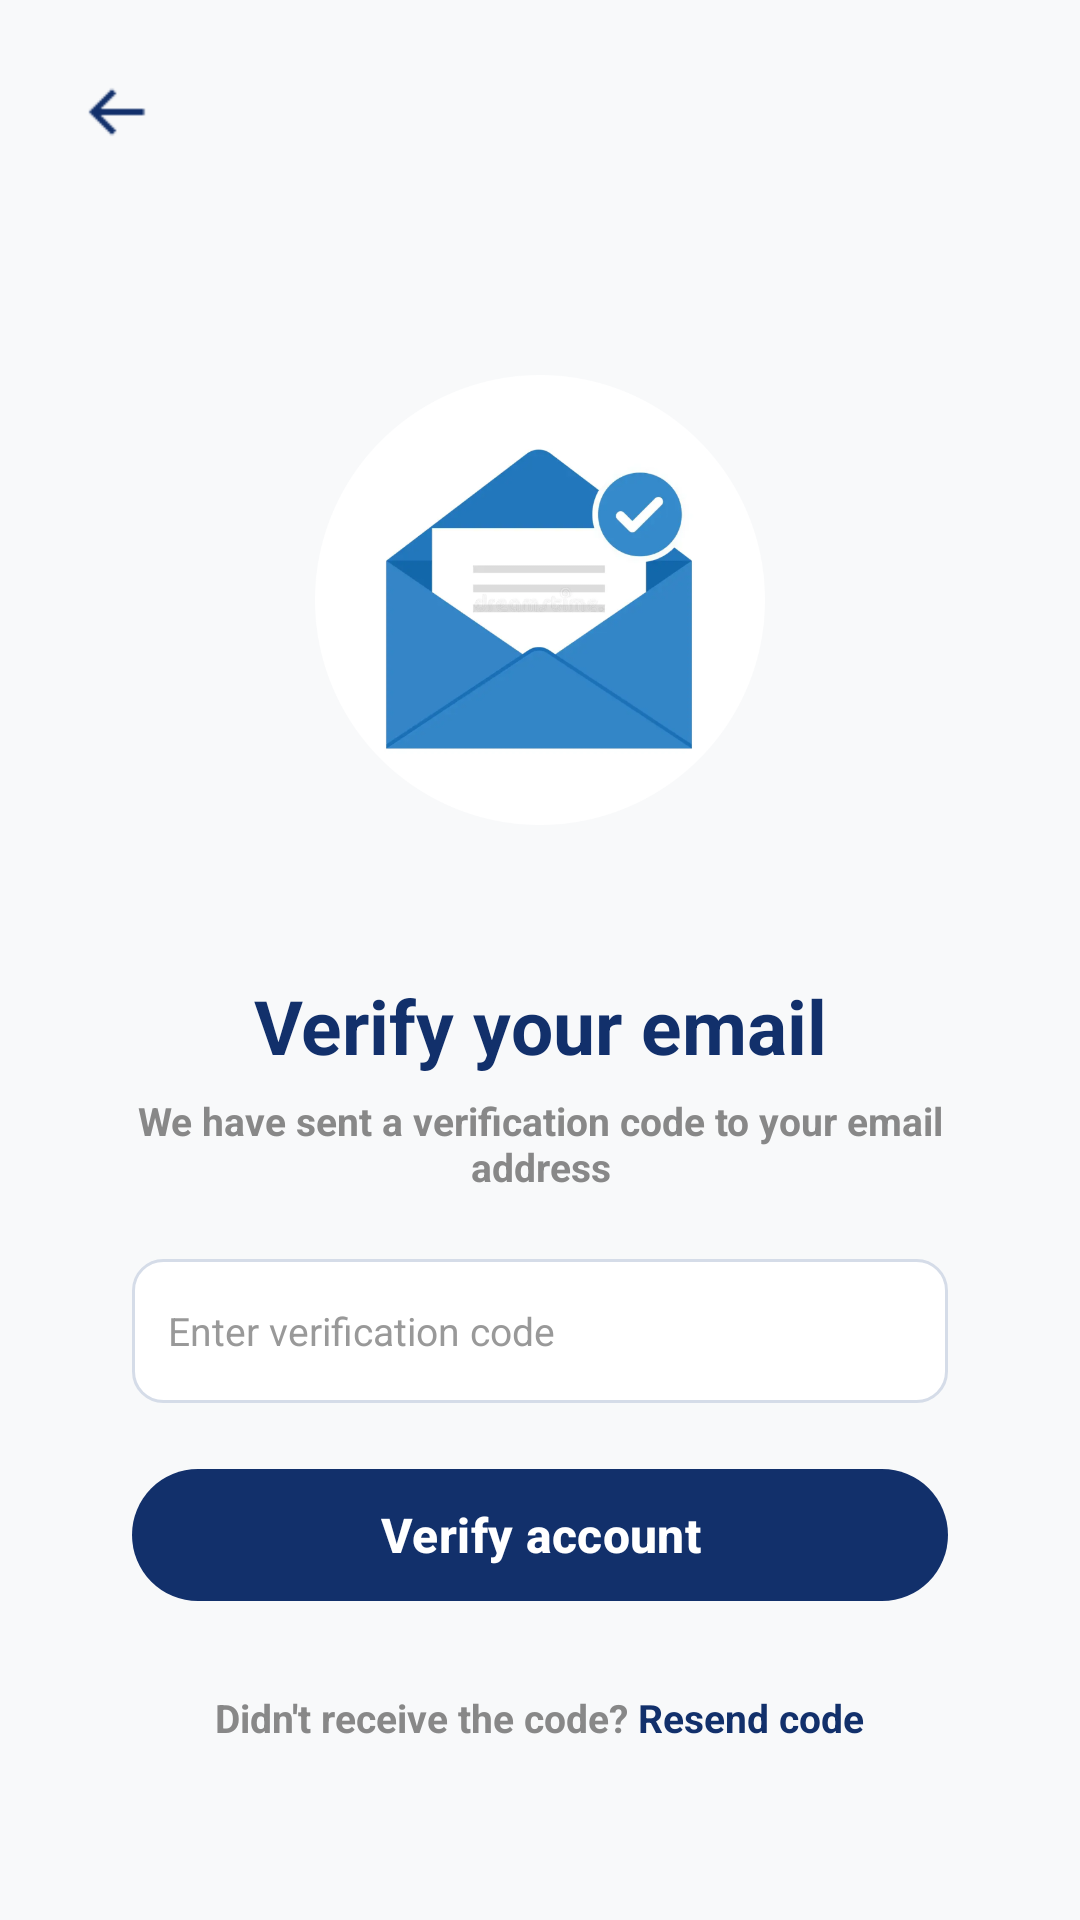

Point at icon controls on the screen. Image size 1080*1920, points as point (x, y).
back arrow: point (117, 112)
vremail: point (539, 599)
